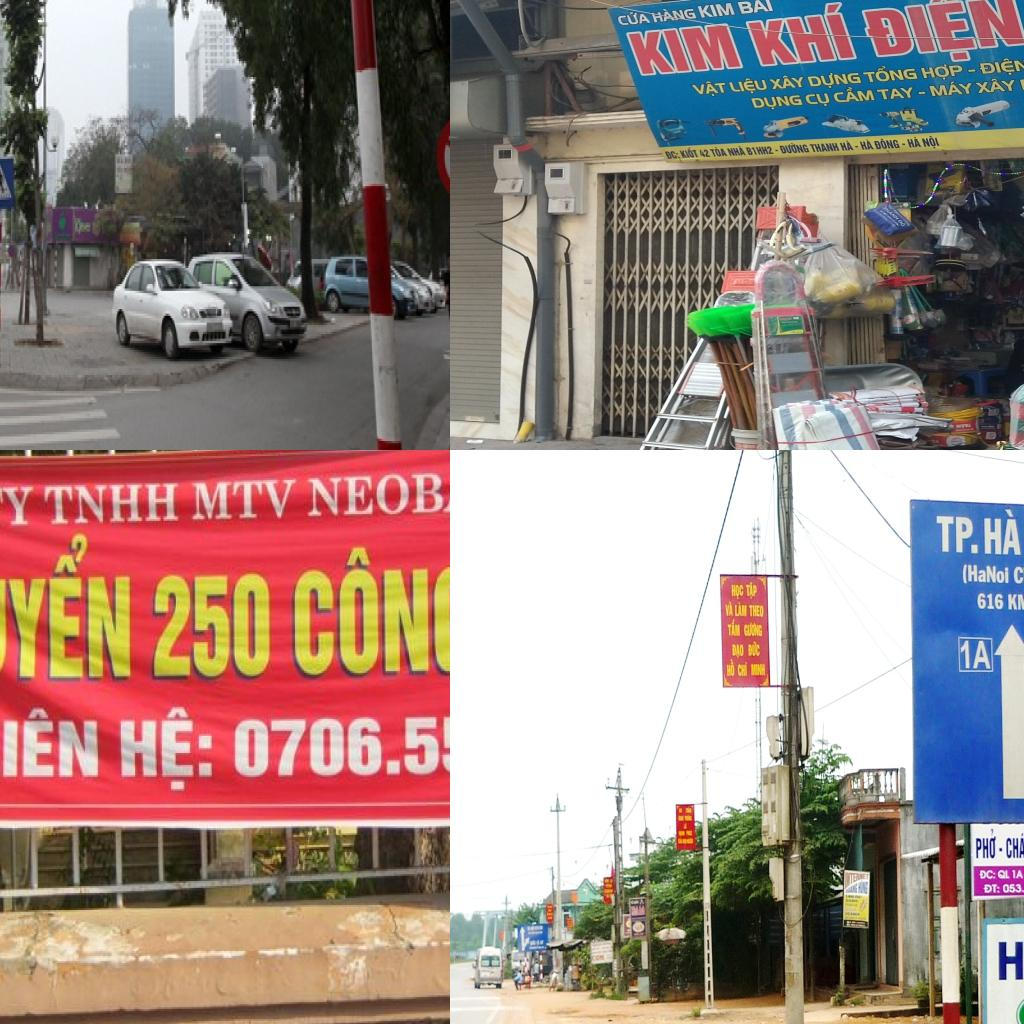text: (284, 534, 450, 681), (0, 524, 136, 684), (144, 572, 277, 692), (853, 0, 1024, 67), (116, 702, 213, 797), (742, 0, 859, 68), (0, 705, 101, 782), (305, 469, 450, 519), (43, 480, 184, 529), (625, 23, 745, 77), (189, 476, 301, 522), (982, 507, 1022, 557), (935, 514, 979, 556), (0, 485, 39, 529), (997, 926, 1024, 982), (859, 63, 920, 84), (805, 70, 864, 91), (961, 562, 1010, 586), (977, 55, 1024, 78), (749, 94, 806, 112), (960, 639, 992, 671), (975, 827, 1004, 861), (918, 62, 966, 82), (830, 84, 878, 104), (727, 75, 770, 96), (926, 80, 975, 98), (648, 7, 699, 24), (688, 79, 727, 99), (695, 2, 737, 20), (974, 77, 1016, 95), (616, 9, 653, 27), (768, 74, 804, 92), (976, 590, 1005, 612), (874, 86, 915, 101), (735, 0, 774, 15), (1005, 831, 1024, 859), (844, 870, 870, 890), (803, 92, 833, 108), (778, 142, 812, 154), (872, 137, 902, 150), (1006, 591, 1024, 612), (808, 142, 842, 153), (920, 134, 942, 150), (742, 622, 764, 638), (743, 146, 776, 156), (1012, 563, 1024, 588), (677, 146, 700, 159), (1001, 881, 1024, 894), (746, 640, 762, 658), (727, 618, 741, 638), (725, 145, 748, 157), (882, 206, 900, 221), (750, 662, 766, 678), (748, 603, 765, 618), (708, 146, 729, 158), (734, 601, 748, 618), (978, 868, 996, 881), (745, 582, 758, 600), (730, 584, 744, 600), (905, 136, 923, 148), (983, 883, 1001, 895), (732, 643, 745, 659), (858, 138, 875, 150), (726, 658, 736, 678), (737, 660, 748, 678), (663, 150, 682, 160), (838, 140, 855, 151), (724, 600, 734, 618), (845, 882, 858, 895), (996, 869, 1010, 881), (858, 880, 868, 896), (1011, 868, 1024, 880), (698, 148, 712, 159), (591, 954, 606, 962), (897, 218, 908, 228), (634, 922, 644, 932)
